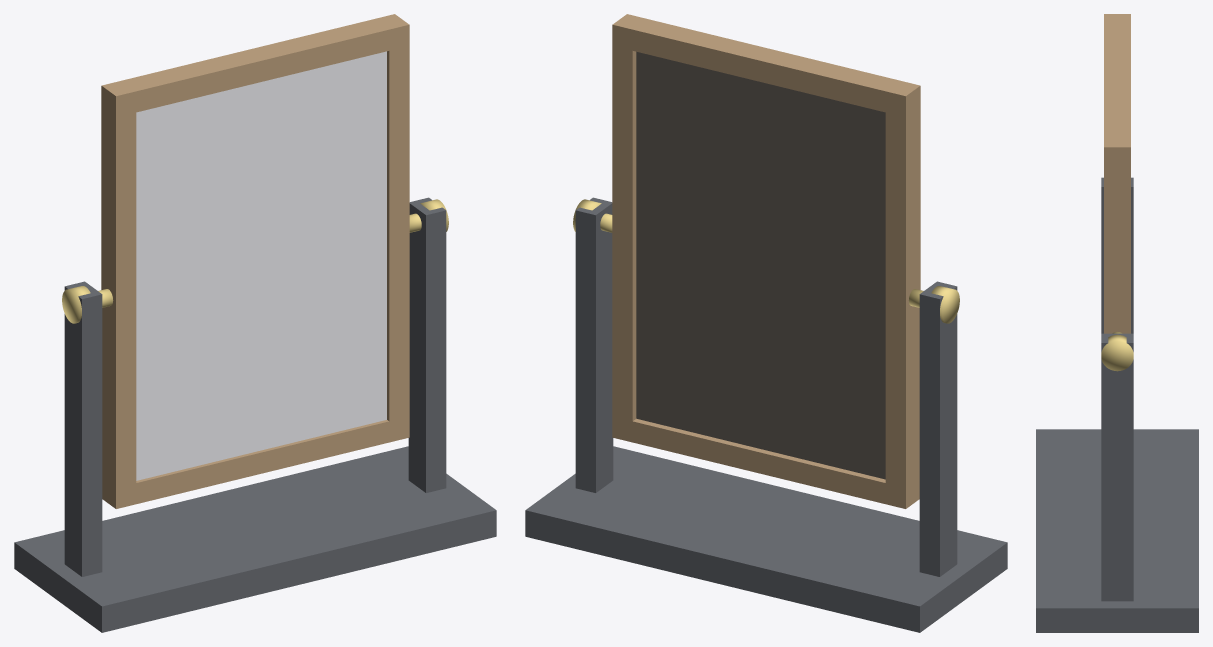
Rendered from plane-mirror.glb.
The picture shows the model from 3 angles, left to right: view 1: azimuth 30°, elevation 25°; view 2: azimuth 150°, elevation 25°; view 3: azimuth 270°, elevation 25°; orthographic projection. The views are drawn at different scales.
Visible parts, largest first — view 1: plane-mirror-reflective-surface, plane-mirror-stand-base, plane-mirror-frame-left, plane-mirror-frame-top, plane-mirror-support-arm-1, plane-mirror-support-arm--1, plane-mirror-frame-right, plane-mirror-frame-bottom, plane-mirror-knob--1; view 2: plane-mirror-backing, plane-mirror-stand-base, plane-mirror-frame-left, plane-mirror-frame-top, plane-mirror-support-arm-1, plane-mirror-support-arm--1, plane-mirror-frame-right, plane-mirror-frame-bottom, plane-mirror-knob--1; view 3: plane-mirror-stand-base, plane-mirror-support-arm-1, plane-mirror-frame-right, plane-mirror-frame-top, plane-mirror-support-arm--1, plane-mirror-knob-1.
Boxes of the visible parts, box(x1,y1,x2,y2) form: plane-mirror-reflective-surface: box(136, 51, 386, 480); plane-mirror-stand-base: box(14, 446, 496, 632); plane-mirror-frame-left: box(101, 107, 136, 487); plane-mirror-frame-top: box(101, 14, 409, 117); plane-mirror-support-arm-1: box(408, 197, 446, 492); plane-mirror-support-arm--1: box(64, 281, 102, 576); plane-mirror-frame-right: box(387, 46, 409, 421); plane-mirror-frame-bottom: box(102, 416, 409, 508); plane-mirror-knob--1: box(62, 286, 90, 323); plane-mirror-backing: box(636, 51, 885, 479); plane-mirror-stand-base: box(525, 446, 1007, 632); plane-mirror-frame-left: box(885, 107, 920, 487); plane-mirror-frame-top: box(612, 14, 920, 117); plane-mirror-support-arm-1: box(575, 197, 613, 492); plane-mirror-support-arm--1: box(919, 281, 957, 576); plane-mirror-frame-right: box(612, 46, 636, 421); plane-mirror-frame-bottom: box(612, 416, 919, 508); plane-mirror-knob--1: box(931, 286, 959, 323); plane-mirror-stand-base: box(1036, 429, 1198, 632); plane-mirror-support-arm-1: box(1101, 333, 1133, 601); plane-mirror-frame-right: box(1104, 167, 1130, 333); plane-mirror-frame-top: box(1104, 14, 1130, 166); plane-mirror-support-arm--1: box(1101, 177, 1133, 333); plane-mirror-knob-1: box(1101, 334, 1133, 371).
Bounding box in the file's own units: 0.156 × 0.188 × 0.06.
